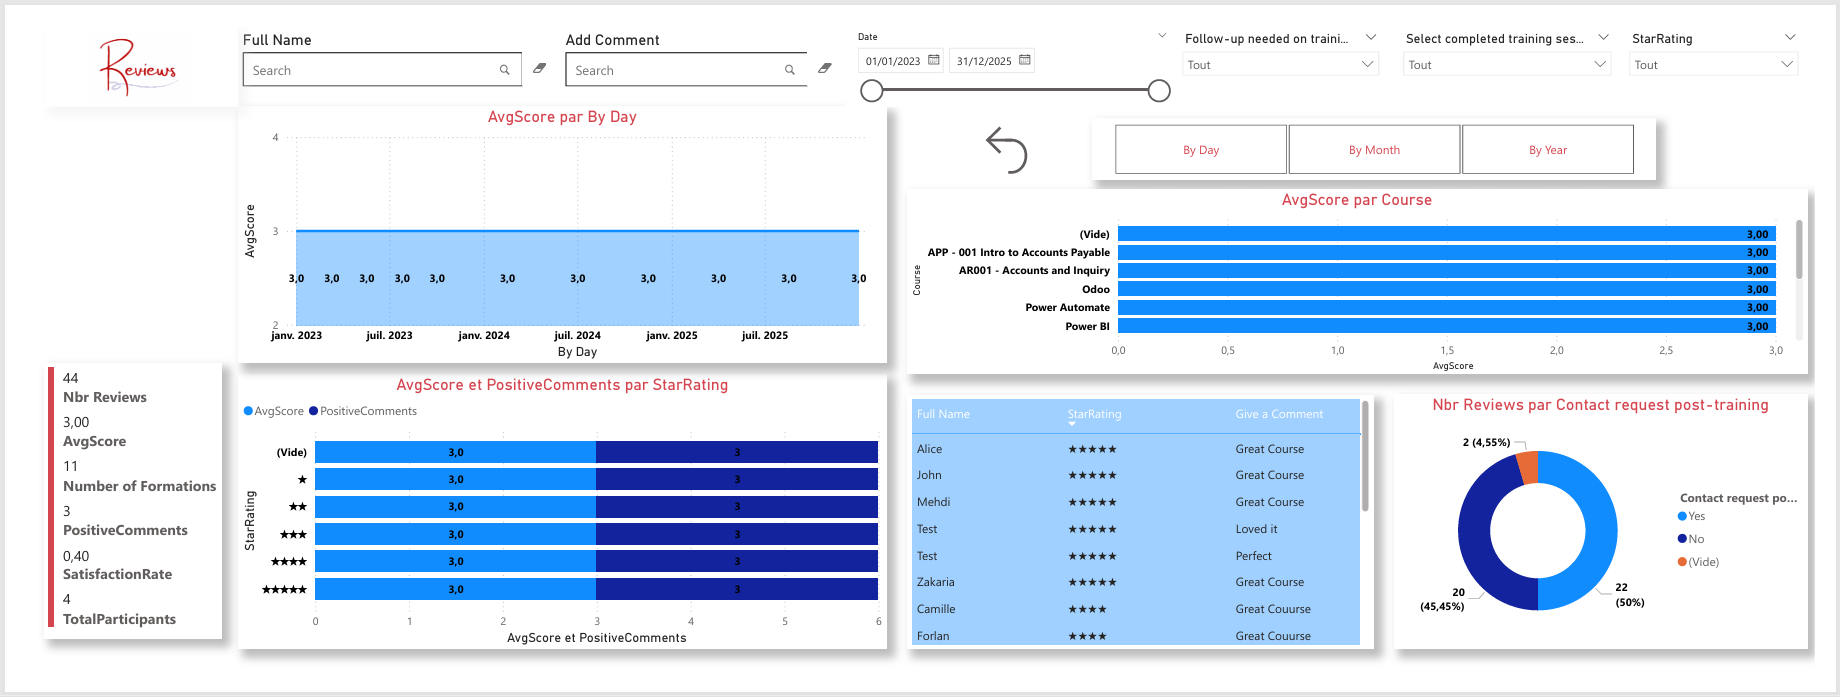

The page's visual inventory and layout, read from the dashboard file:
{"tool":"powerbi","page":{"name":"Average","canvas":[2000,720],"ordinal":1},"visuals":[{"type":"multiRowCard","fields":{"Values":["Mesure.Nbr Reviews","Mesure.AvgScore","Mesure.Number of Formations","Mesure.PositiveComments","Mesure.SatisfactionRate","Mesure.TotalParticipants"]},"box":[20,376.7,198.3,308.3],"z":0},{"type":"slicer","fields":{"Values":["Parameter.Parameter"]},"box":[1191.7,103.3,630,68.3],"z":1000},{"type":"barChart","fields":{"Category":["Reviews.StarRating"],"Y":["Mesure.AvgScore","Mesure.PositiveComments"]},"box":[236.7,390,725,306.7],"z":2000},{"type":"stackedAreaChart","fields":{"Category":["Calendar.Date","Calendar.Month","Calendar.Year"],"Y":["Mesure.AvgScore"]},"box":[236.7,90,725,286.7],"z":3000},{"type":"tableEx","fields":{"Values":["Reviews.Full Name","Reviews.StarRating","Reviews.Please use this space to add comments about the effectiveness of today's training."]},"box":[985,413.3,521.7,283.3],"z":4000},{"type":"barChart","fields":{"Category":["Reviews.Please select training completed"],"Y":["Mesure.AvgScore"]},"box":[985,183.3,1006.7,206.7],"z":5000},{"type":"donutChart","fields":{"Category":["Reviews.Would you like someone to reach out to you, regarding a specific question you have from today's training?"],"Y":["Mesure.Nbr Reviews"]},"box":[1530,411.7,461.7,285],"z":6000},{"type":"slicer","fields":{"Values":["Calendar.Date"]},"box":[916.7,0,371.7,90],"z":7000},{"type":"slicer","fields":{"Values":["Reviews.StarRating"]},"box":[1783.3,0,208.3,60],"z":8000},{"type":"slicer","fields":{"Values":["Reviews.Would you like someone to reach out to you, regarding a specific question you have from today's training?"]},"box":[1283.3,0,240,60],"z":9000},{"type":"slicer","fields":{"Values":["Reviews.Please select training completed"]},"box":[1530,0,253.3,60],"z":10000},{"type":"actionButton","box":[1063.3,105,80,66.7],"z":11000},{"type":"textFilter25A4896A83E0487089E2B90C9AE57C8A","fields":{"field":["Reviews.Full Name"]},"box":[236.7,5,361.7,66.7],"z":12000},{"type":"textFilter25A4896A83E0487089E2B90C9AE57C8A","fields":{"field":["Reviews.Please use this space to add comments about the effectiveness of today's training."]},"box":[598.3,5,318.3,66.7],"z":13000},{"type":"image","box":[20,0,216.7,90],"z":14000}]}

Visuals, with their boxes on the page's 2000x720 design canvas (x1, y1, x2, y2). These are canvas units, not pixel positions in the 1840x697 screenshot, which may show the page scaled, cropped or inside an application window:
multiRowCard - Mesure.Nbr Reviews x Mesure.AvgScore: crop(20, 377, 218, 685)
slicer - Parameter.Parameter: crop(1192, 103, 1822, 172)
barChart - Reviews.StarRating x Mesure.AvgScore: crop(237, 390, 962, 697)
stackedAreaChart - Calendar.Date x Calendar.Month: crop(237, 90, 962, 377)
tableEx - Reviews.Full Name x Reviews.StarRating: crop(985, 413, 1507, 697)
barChart - Reviews.Please select training completed x Mesure.AvgScore: crop(985, 183, 1992, 390)
donutChart - Reviews.Would you like someone to reach out to you, regarding a specific question you have from today's training? x Mesure.Nbr Reviews: crop(1530, 412, 1992, 697)
slicer - Calendar.Date: crop(917, 0, 1288, 90)
slicer - Reviews.StarRating: crop(1783, 0, 1992, 60)
slicer - Reviews.Would you like someone to reach out to you, regarding a specific question you have from today's training?: crop(1283, 0, 1523, 60)
slicer - Reviews.Please select training completed: crop(1530, 0, 1783, 60)
actionButton: crop(1063, 105, 1143, 172)
textFilter25A4896A83E0487089E2B90C9AE57C8A - Reviews.Full Name: crop(237, 5, 598, 72)
textFilter25A4896A83E0487089E2B90C9AE57C8A - Reviews.Please use this space to add comments about the effectiveness of today's training.: crop(598, 5, 917, 72)
image: crop(20, 0, 237, 90)
